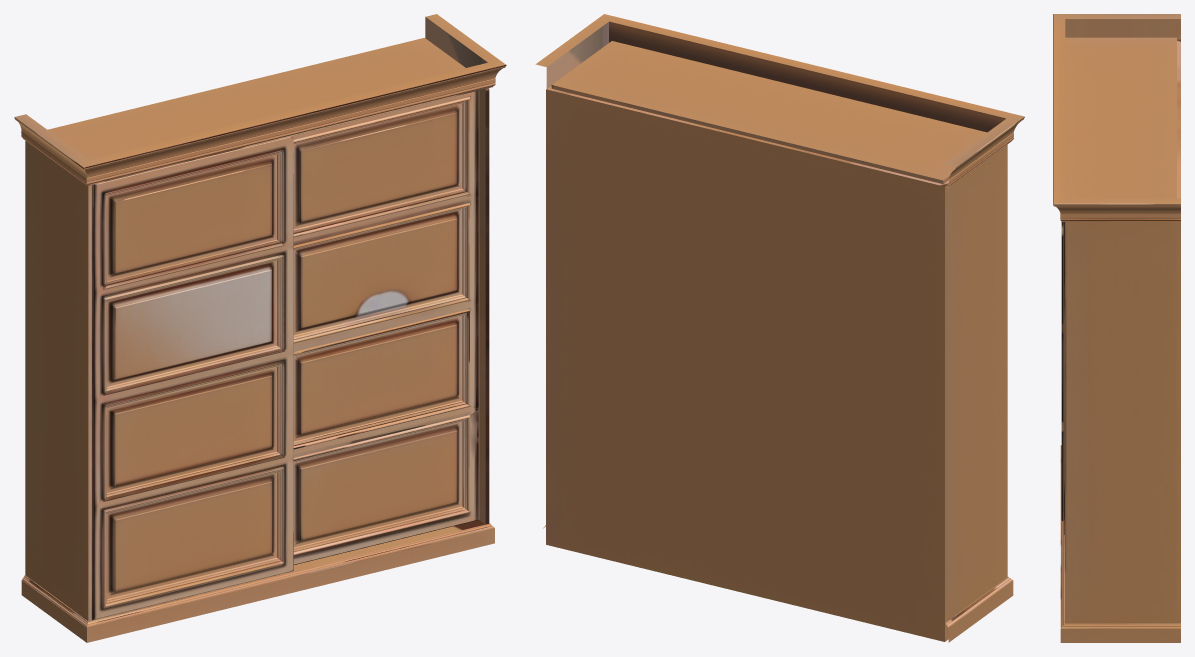
The model's file is edited_mesh.glb.
3 views of the same model, side by side, from view 1: azimuth 30°, elevation 25°; view 2: azimuth 150°, elevation 25°; view 3: azimuth 270°, elevation 25° (orthographic). The views are drawn at different scales.
Parts seen in each view (by area): view 1: normalized_model.obj; view 2: normalized_model.obj; view 3: normalized_model.obj.
Boxes of the visible parts, x1,y1,x2,y2 form: normalized_model.obj: (14, 14, 506, 642); normalized_model.obj: (535, 14, 1024, 642); normalized_model.obj: (1053, 14, 1180, 642).
Size of the model in its own units: 1.26 by 1.37 by 0.359.
1 material, 1 textured.
